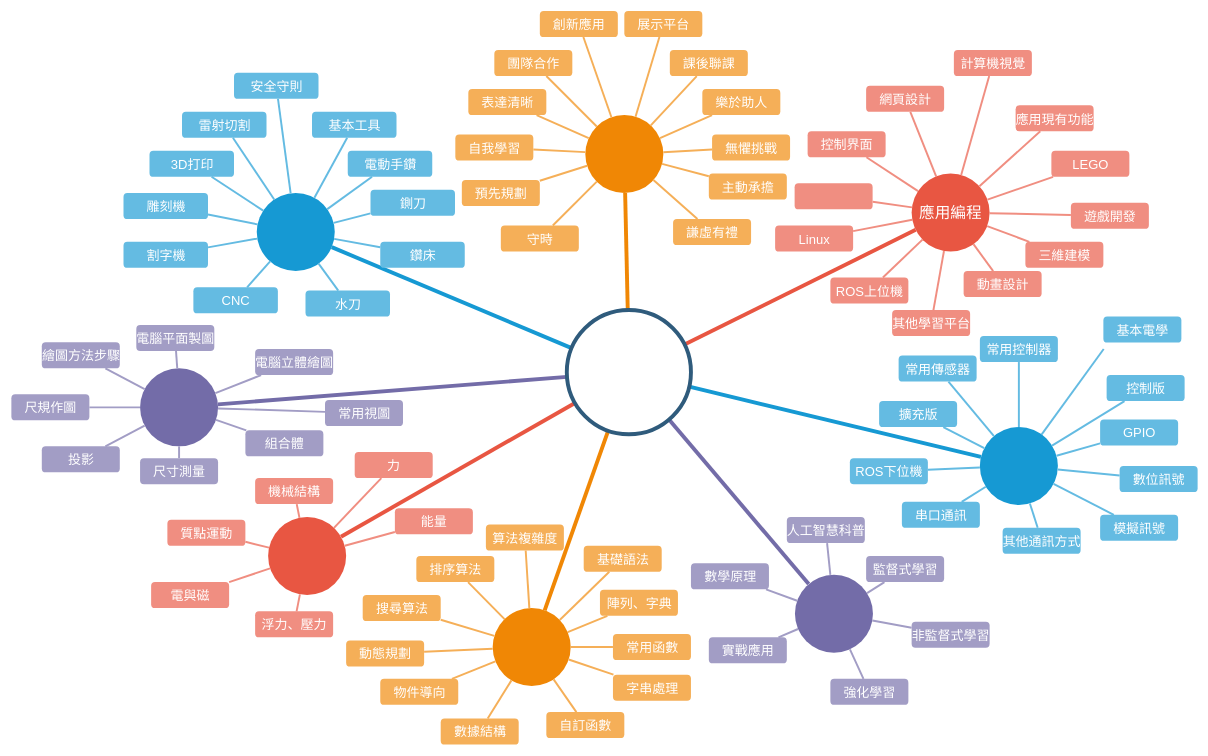
This 1208x756 diagram has some shape labels left out. Here are the shapes that lost their labels. From the top down, the centre of each, then its label:
At point (624, 154): "自我實現".
At point (833, 196): "建立伺服器".
At point (295, 232): "設備應用".
At point (629, 372): "設計 與 科學".
At point (179, 407): "工程製圖".
At point (1019, 466): "數位邏輯".
At point (307, 556): "科學原理".
At point (834, 613): "機器學習".
At point (531, 647): "編程思維".
